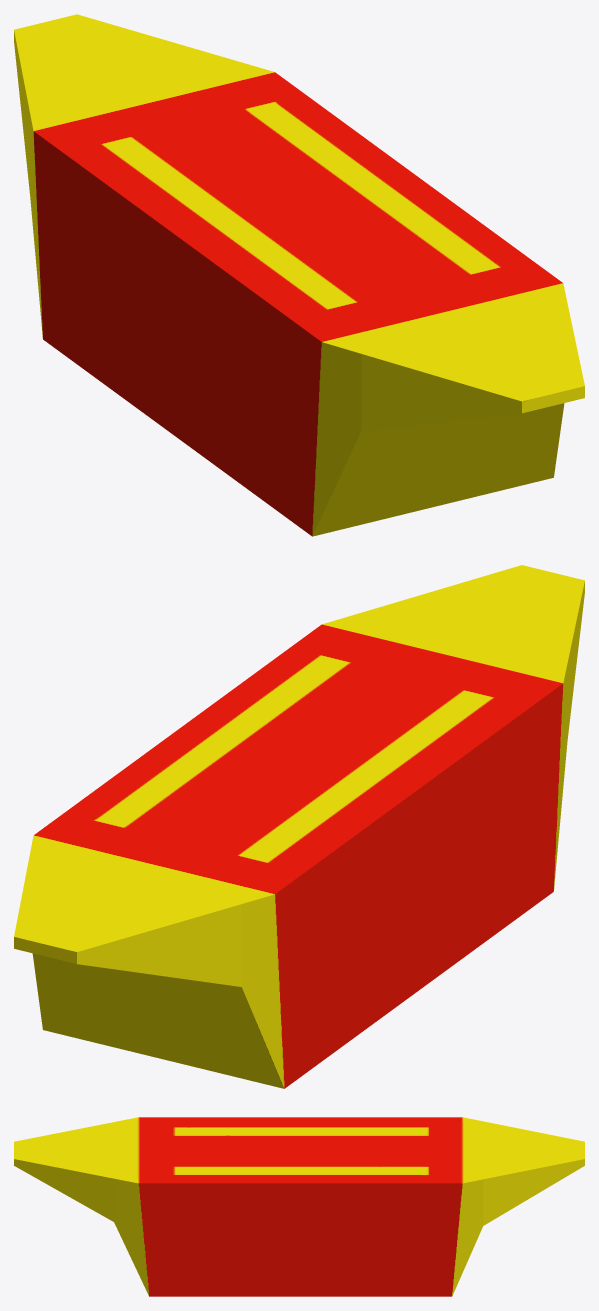
Rendered from Candy.fbx.
3 views of the same model, one above another, from view 1: azimuth 30°, elevation 25°; view 2: azimuth 150°, elevation 25°; view 3: azimuth 270°, elevation 25° (orthographic). The views are drawn at different scales.
Parts seen in each view (by area): view 1: Cube; view 2: Cube; view 3: Cube.
Boxes of the visible parts, x1,y1,x2,y2 form: Cube: [14, 14, 584, 536]; Cube: [14, 565, 584, 1088]; Cube: [14, 1117, 584, 1296].
Bounding box in the file's own units: 6.75 × 5.38 × 24.57.
